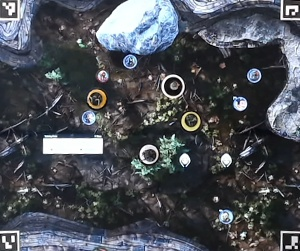black: (162, 74, 185, 97)
lime_green_violet: (179, 109, 202, 132)
white: (137, 144, 160, 167)
yellow_night_blue: (83, 87, 106, 110)
